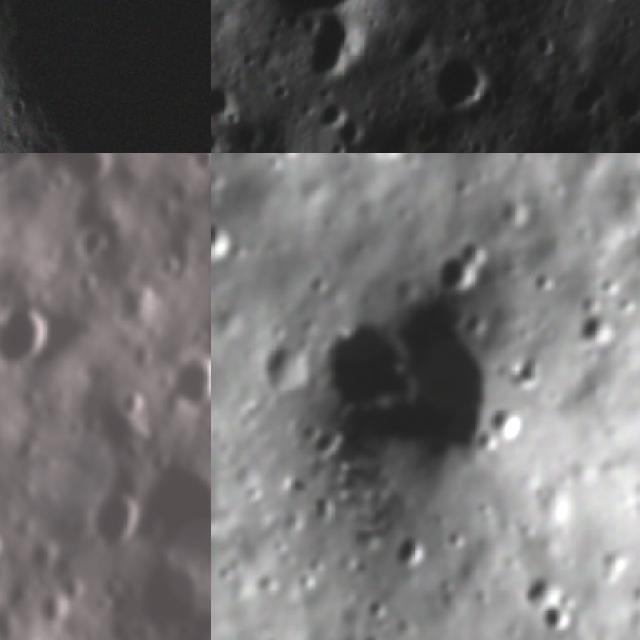crater: (115, 446, 211, 580), (312, 308, 428, 417), (113, 545, 211, 640), (289, 12, 383, 85), (78, 476, 148, 557), (0, 296, 65, 382), (149, 335, 211, 416), (422, 51, 496, 118), (433, 236, 497, 296), (26, 577, 80, 635), (251, 0, 376, 24), (62, 220, 113, 272), (562, 78, 607, 121), (151, 242, 189, 290), (308, 98, 350, 138), (332, 112, 372, 152), (578, 315, 625, 349), (488, 405, 528, 442), (609, 83, 640, 129), (499, 195, 535, 232), (211, 220, 239, 266), (211, 81, 240, 123), (394, 532, 428, 566), (600, 552, 633, 583), (183, 153, 211, 186), (540, 610, 576, 632), (533, 266, 560, 295), (449, 174, 477, 201), (256, 571, 284, 596), (298, 566, 327, 590), (367, 598, 396, 620), (436, 574, 456, 601), (445, 530, 469, 550), (558, 590, 578, 611), (357, 633, 394, 640), (633, 575, 640, 606), (275, 153, 303, 157)
